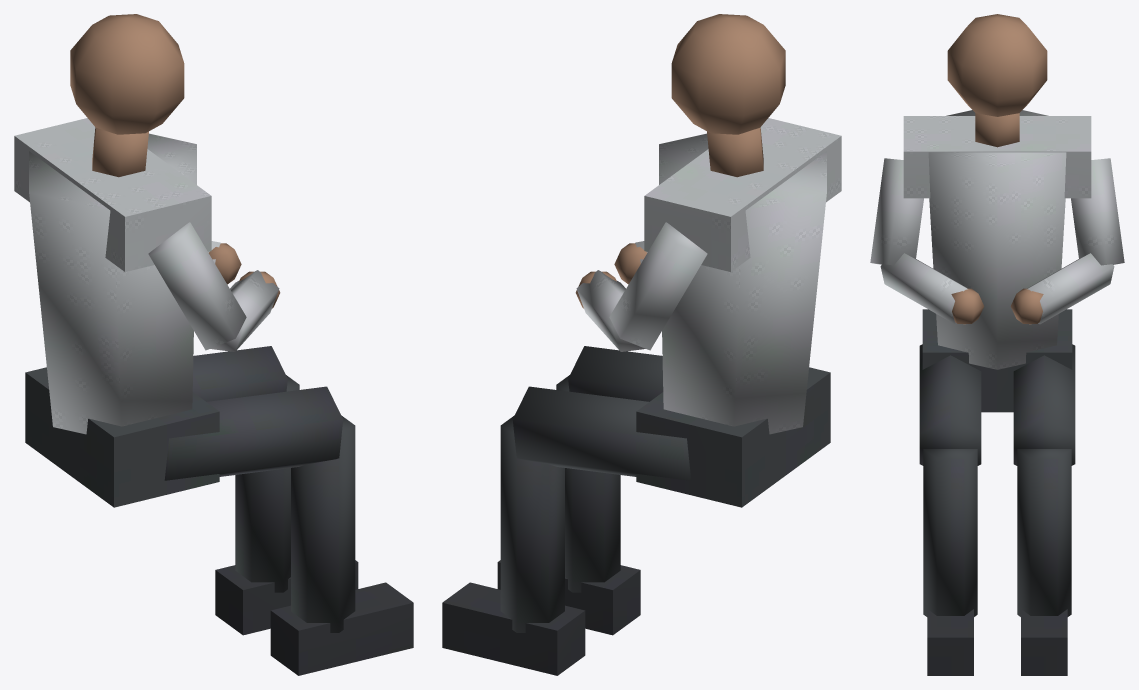
File: crowd-seated-1_mobile.glb
3 renders of one model, left to right at view 1: azimuth 30°, elevation 25°; view 2: azimuth 150°, elevation 25°; view 3: azimuth 270°, elevation 25°, orthographic. The views are drawn at different scales.
Visible parts, largest first — view 1: clothing, dark-steel, skin, rubber; view 2: clothing, dark-steel, skin, rubber; view 3: clothing, dark-steel, skin, rubber.
Boxes of the visible parts, left/top/right/bottom form: clothing: left=14, top=118, right=279, bottom=434; dark-steel: left=25, top=346, right=355, bottom=632; skin: left=70, top=14, right=280, bottom=308; rubber: left=215, top=560, right=413, bottom=675; clothing: left=576, top=118, right=841, bottom=434; dark-steel: left=500, top=346, right=830, bottom=632; skin: left=575, top=14, right=785, bottom=308; rubber: left=442, top=560, right=640, bottom=675; clothing: left=870, top=110, right=1124, bottom=369; dark-steel: left=919, top=309, right=1075, bottom=616; skin: left=947, top=14, right=1047, bottom=324; rubber: left=927, top=609, right=1067, bottom=675.
Bounding box in the file's own units: 0.7148 × 1.31 × 0.5429.
Materials: 4 (3 with a texture image).
